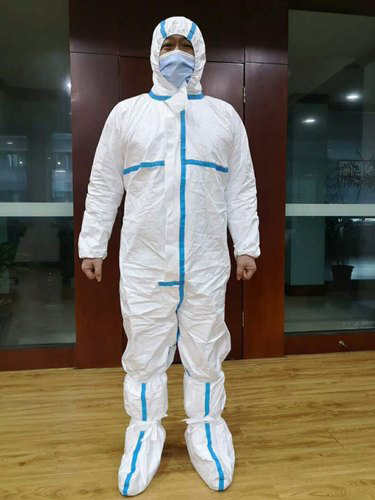Coverall: (87, 13, 261, 462)
with_mask: (155, 43, 203, 84)
